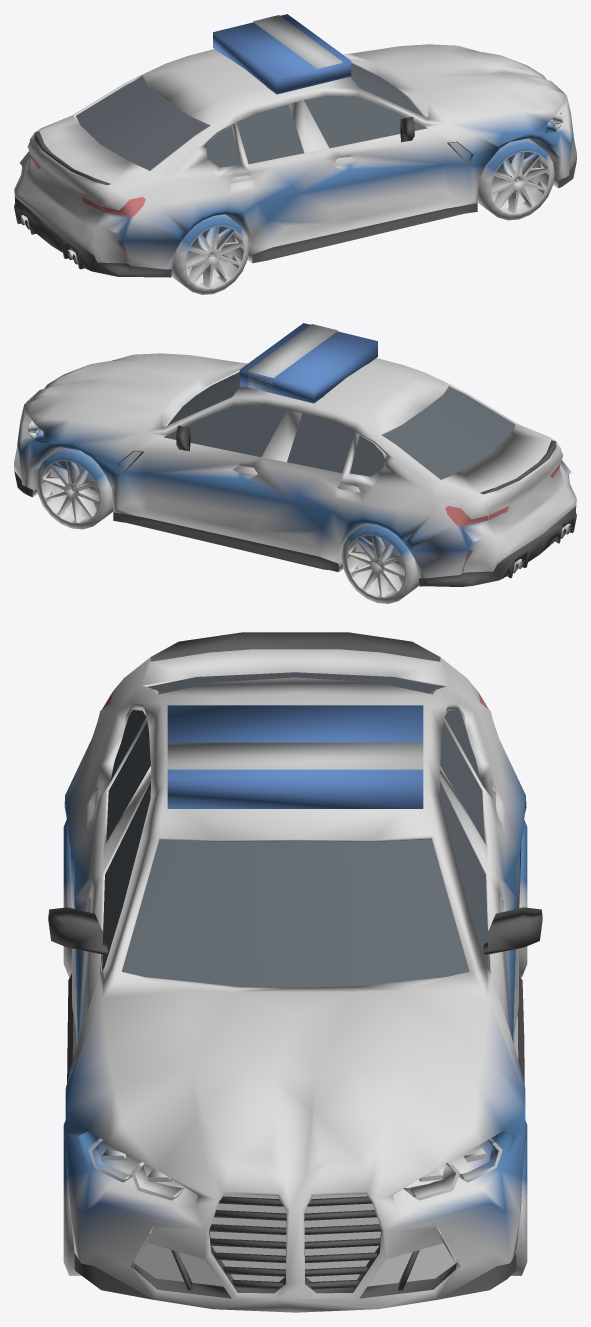
File: bmw_police.glb
The picture shows the model from 3 angles, top to bottom: view 1: azimuth 30°, elevation 25°; view 2: azimuth 150°, elevation 25°; view 3: azimuth 270°, elevation 25°; orthographic projection. The views are drawn at different scales.
Visible parts, largest first — view 1: bmw; view 2: bmw; view 3: bmw.
Boxes of the visible parts, x1=… form: bmw: x1=14, y1=14, x2=576, y2=294; bmw: x1=14, y1=323, x2=576, y2=603; bmw: x1=48, y1=632, x2=542, y2=1312.
Size of the model in its own units: 4.78 by 1.59 by 2.01.
